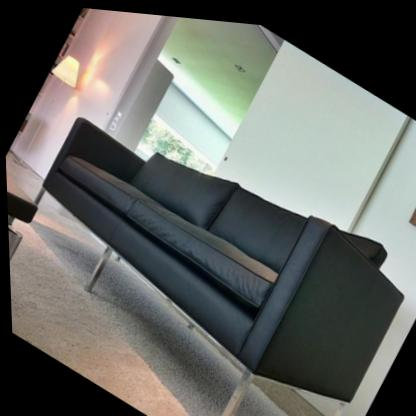Sofa: (2, 60, 416, 416)
